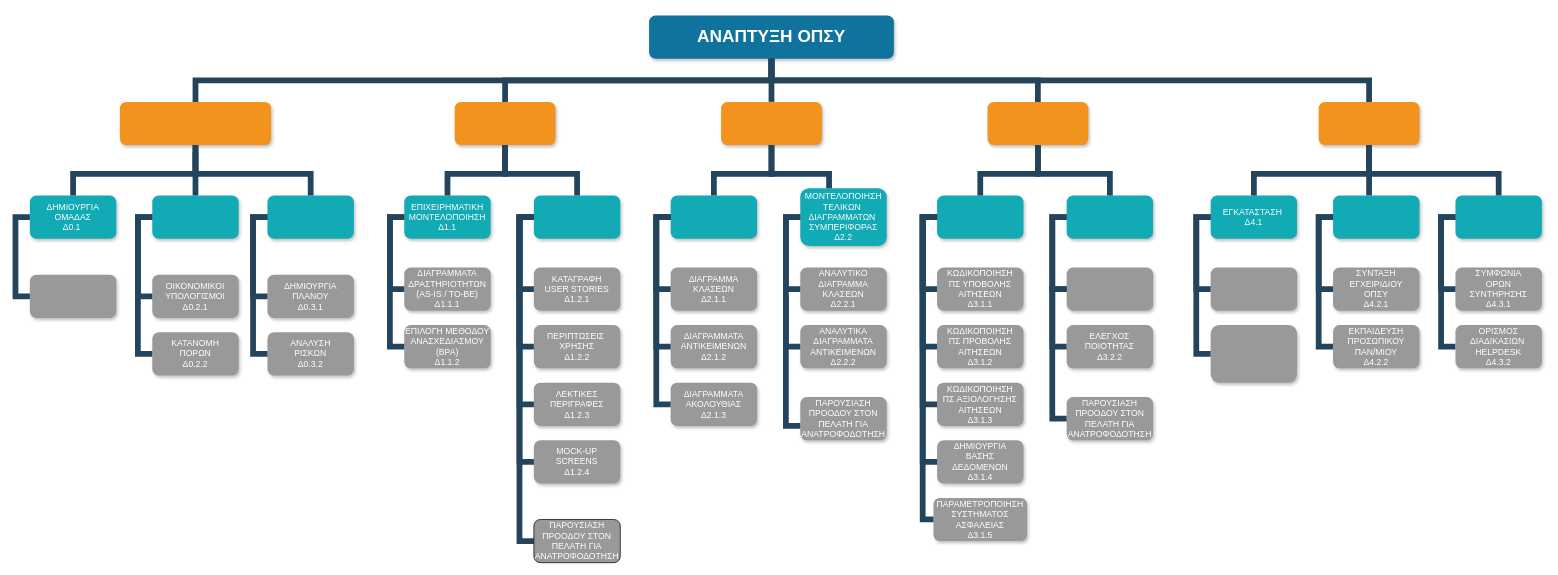
Image size: 1558x575. Some labels were removed from this diagram. The shapes that lost their labels are listed below. From the top down, each one's centre as x and y in pixels, then its label:
At (196,124): "ΔΙΑΧΕΙΡΙΣΗ ΕΡΓΟΥ ΠΕ0".
At (505,124): "ΑΝΑΛΥΣΗ ΠΕ1".
At (772,124): "ΣΧΕΔΙΑΣΗ ΠΕ2".
At (1038,124): "ΥΛΟΠΟΙΗΣΗ ΠΕ3".
At (1369,124): "ΠΑΡΑΔΟΣΗ ΠΕ4".
At (196,217): "ΔΙΑΧΕΙΡΙΣΗ ΠΟΡΩΝ Δ0.2".
At (311,217): "ΔΙΑΧΕΙΡΙΣΗ ΚΙΝΔΥΝΩΝ Δ0.3".
At (577,217): "ΑΝΑΛΥΣΗ ΑΠΑΙΤΗΣΕΩΝ Δ1.2".
At (714,217): "ΔΟΜΙΚΗ ΜΟΝΤΕΛΟΠΟΙΗΣΗ Δ2.1".
At (980,217): "ΑΝΑΠΤΥΞΗ ΣΥΣΤΗΜΑΤΟΣ Δ3.1".
At (1110,217): "ΕΛΕΓΧΟΣ Δ3.2".
At (1376,217): "ΕΚΠΑΙΔΕΥΣΗ Δ4.2".
At (1499,217): "ΣΥΝΤΗΡΗΣΗ Δ4.3".
At (73,297): "ΑΝΑΘΕΣΗ ΡΟΛΩΝ Δ0.1.1".
At (1110,289): "ΤΕΧΝΙΚΟΣ ΕΛΕΓΧΟΣ Δ3.2.1".
At (1254,289): "ΕΓΚΑΤΑΣΤΑΣΗ ΠΣ Δ4.1.1".
At (1254,354): "ΔΙΑΣΥΝΔΕΣΗ ΜΕ ΥΠΑΡΧΟΝΤΑ ΣΥΣΤΗΜΑΤΑ ΤΟΥ ΚΥΔ Δ4.1.2".
